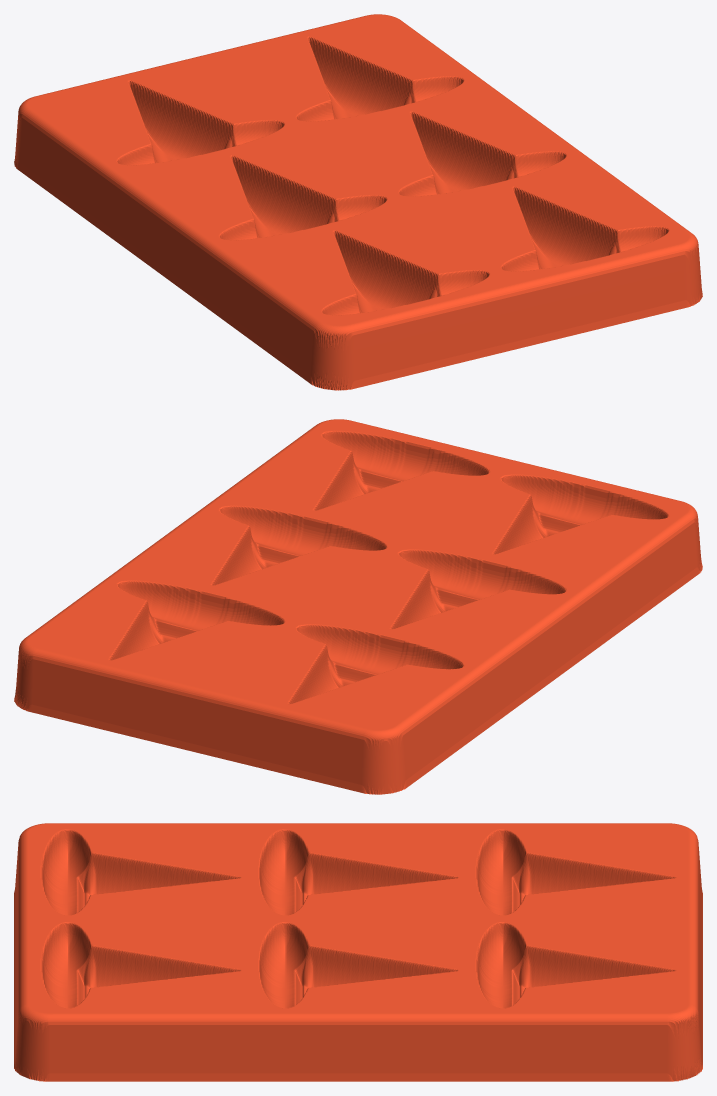
File: mold.glb
3 views of the same model, one above another, from view 1: azimuth 30°, elevation 25°; view 2: azimuth 150°, elevation 25°; view 3: azimuth 270°, elevation 25° (orthographic). The views are drawn at different scales.
Parts seen in each view (by area): view 1: geometry_0; view 2: geometry_0; view 3: geometry_0.
Boxes of the visible parts, bbox=[...] form: geometry_0: bbox=[14, 14, 702, 390]; geometry_0: bbox=[14, 419, 702, 794]; geometry_0: bbox=[14, 823, 702, 1081].
Size of the model in its own units: 0.1211 by 0.0175 by 0.1753.
